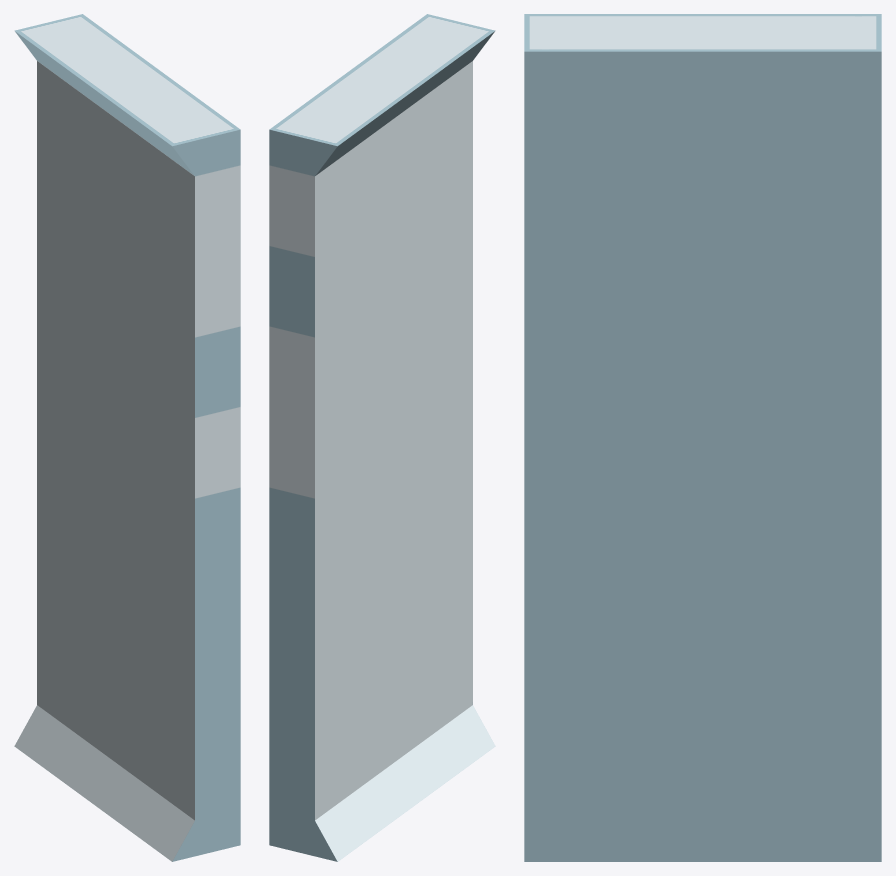
Rendered from HomeWallUNI.obj.
The picture shows the model from 3 angles, left to right: view 1: azimuth 30°, elevation 25°; view 2: azimuth 150°, elevation 25°; view 3: azimuth 270°, elevation 25°; orthographic projection. The views are drawn at different scales.
Parts seen in each view (by area): view 1: Wall; view 2: Wall; view 3: Wall.
Part boxes in pixels (x1=…): Wall: x1=14, y1=14, x2=240, y2=861; Wall: x1=269, y1=14, x2=495, y2=861; Wall: x1=524, y1=14, x2=881, y2=861.
Size of the model in its own units: 0.25 by 2.5 by 1.
1 material, 1 textured.
